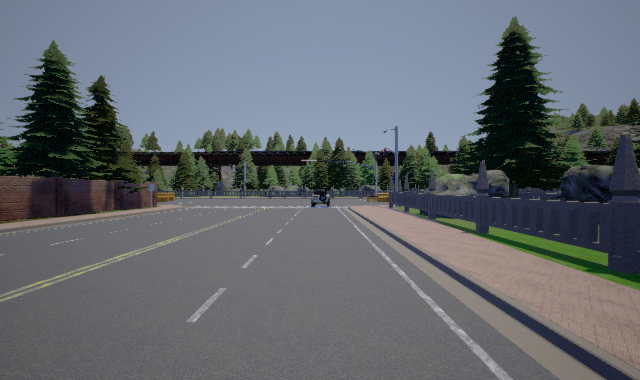traffic_light: (374, 152, 381, 161), (382, 148, 386, 156), (343, 161, 345, 166), (309, 161, 311, 166)
vehicle: (311, 189, 330, 207)
